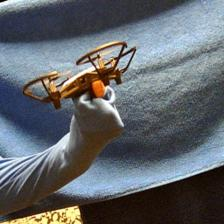drone: (20, 41, 136, 106)
